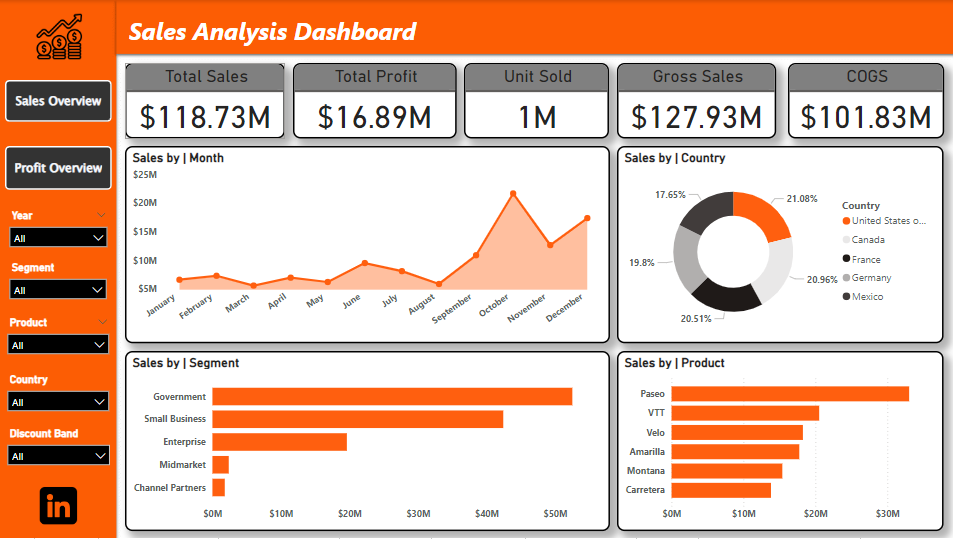

Layout of this report page (visuals, bound fields, positions):
{"tool":"powerbi","page":{"name":"Dashboard","canvas":[1280,720],"ordinal":0},"visuals":[{"type":"card","title":"Total Sales","fields":{"Values":["Sum(Financials_Data. Sales)"]},"box":[168.6,84.3,214.3,101.4],"z":0},{"type":"card","title":"Total Profit","fields":{"Values":["Sum(Financials_Data.Profit)"]},"box":[392.9,84.3,218.6,101.4],"z":1000},{"type":"card","title":"Unit Sold","fields":{"Values":["Sum(Financials_Data.Units Sold)"]},"box":[622.9,84.3,194.3,101.4],"z":2000},{"type":"card","title":"Gross Sales","fields":{"Values":["Sum(Financials_Data.Gross Sales)"]},"box":[827.1,84.3,212.9,101.4],"z":3000},{"type":"card","title":"COGS","fields":{"Values":["Sum(Financials_Data.COGS)"]},"box":[1055.7,84.3,208.6,101.4],"z":4000},{"type":"lineChart","title":"Sales by | Month","fields":{"Category":["Financials_Data.Date.Variation.Date Hierarchy.Month"],"Y":["Sum(Financials_Data. Sales)"]},"box":[168.6,195.7,648.6,264.3],"z":5000},{"type":"clusteredBarChart","title":"Sales by | Segment","fields":{"Category":["Financials_Data.Segment"],"Y":["Sum(Financials_Data. Sales)"]},"box":[168.6,470,648.6,241.4],"z":6000},{"type":"donutChart","title":"Sales by | Country","fields":{"Category":["Financials_Data.Country"],"Y":["Sum(Financials_Data. Sales)"]},"box":[827.1,195.7,437.1,264.3],"z":7000},{"type":"clusteredBarChart","title":"Sales by | Product","fields":{"Category":["Financials_Data.Product"],"Y":["Sum(Financials_Data. Sales)"]},"box":[827.1,470,437.1,241.4],"z":8000},{"type":"shape","box":[8.6,107.1,142.9,55.7],"z":9000},{"type":"shape","box":[8.6,195.7,142.9,58.6],"z":10000},{"type":"slicer","fields":{"Values":["Financials_Data.Date.Variation.Date Hierarchy.Year"]},"box":[4.3,275.7,151.4,70],"z":11000},{"type":"slicer","fields":{"Values":["Financials_Data.Segment"]},"box":[4.3,345.7,150,72.9],"z":12000},{"type":"slicer","fields":{"Values":["Financials_Data.Product"]},"box":[1.4,418.6,155.7,64.3],"z":13000},{"type":"slicer","fields":{"Values":["Financials_Data.Country"]},"box":[1.4,495.7,155.7,71.4],"z":14000},{"type":"slicer","fields":{"Values":["Financials_Data.Discount Band"]},"box":[1.4,567.1,157.1,68.6],"z":15000},{"type":"image","box":[35.7,12.9,88.6,71.4],"z":16000},{"type":"textbox","box":[168.6,13.4,443,53.5],"z":17000},{"type":"image","box":[49.5,643.7,60.2,66.9],"z":22000}]}

Visuals, with their boxes in screenshot pixels (x1, y1, x2, y2), scaled from the page's 1280x720 canvas onto the 953x539 screenshot:
"Total Sales" card: <box>126,63,285,139</box>
"Total Profit" card: <box>293,63,455,139</box>
"Unit Sold" card: <box>464,63,608,139</box>
"Gross Sales" card: <box>616,63,774,139</box>
"COGS" card: <box>786,63,941,139</box>
"Sales by | Month" lineChart: <box>126,147,608,344</box>
"Sales by | Segment" clusteredBarChart: <box>126,352,608,533</box>
"Sales by | Country" donutChart: <box>616,147,941,344</box>
"Sales by | Product" clusteredBarChart: <box>616,352,941,533</box>
shape: <box>6,80,113,122</box>
shape: <box>6,147,113,190</box>
slicer - Financials_Data.Date.Variation.Date Hierarchy.Year: <box>3,206,116,259</box>
slicer - Financials_Data.Segment: <box>3,259,115,313</box>
slicer - Financials_Data.Product: <box>1,313,117,362</box>
slicer - Financials_Data.Country: <box>1,371,117,425</box>
slicer - Financials_Data.Discount Band: <box>1,425,118,476</box>
image: <box>27,10,93,63</box>
textbox: <box>126,10,455,50</box>
image: <box>37,482,82,532</box>
